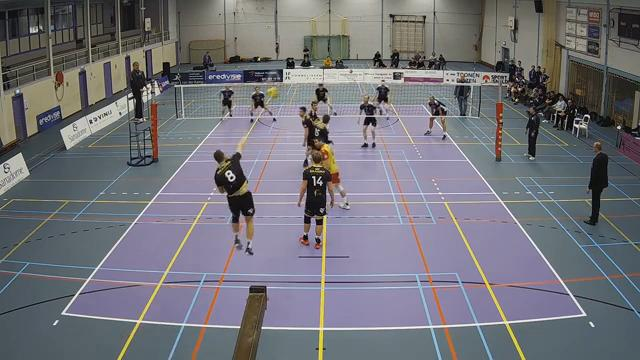battuta: (205, 125, 264, 264)
